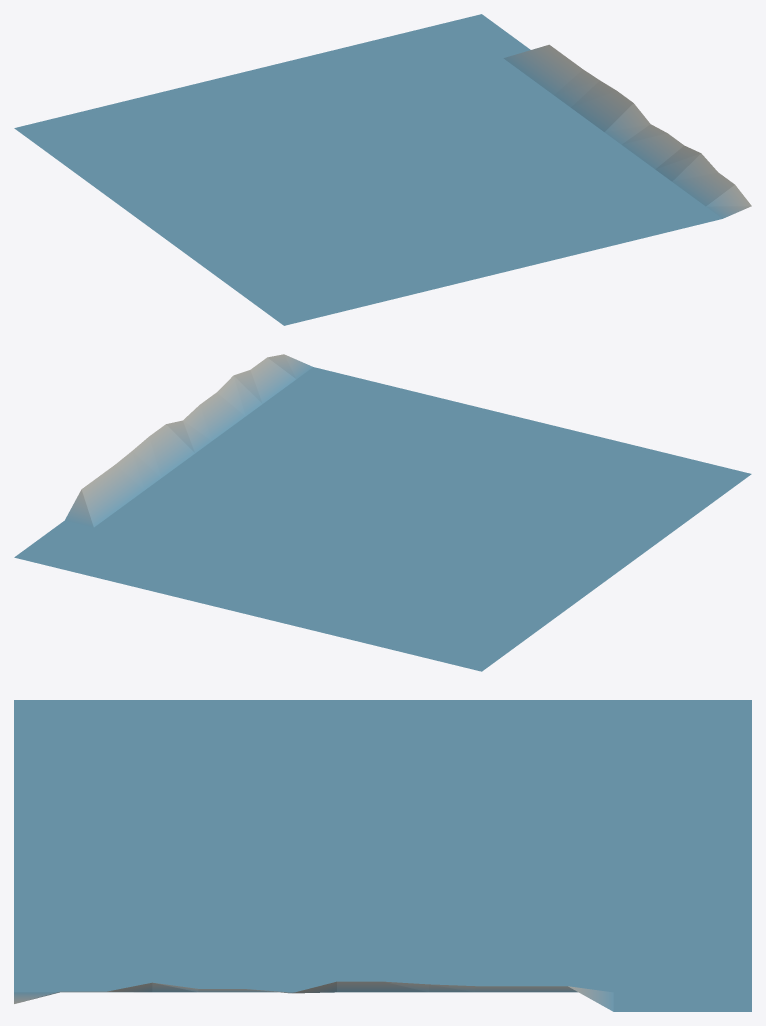
3 views of the same model, one above another, from view 1: azimuth 30°, elevation 25°; view 2: azimuth 150°, elevation 25°; view 3: azimuth 270°, elevation 25° (orthographic). The views are drawn at different scales.
Size of the model in its own units: 32 by 1.45 by 32.
